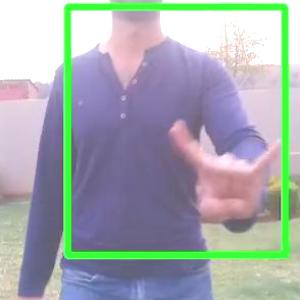takeoff-hand: (170, 107, 292, 228)
